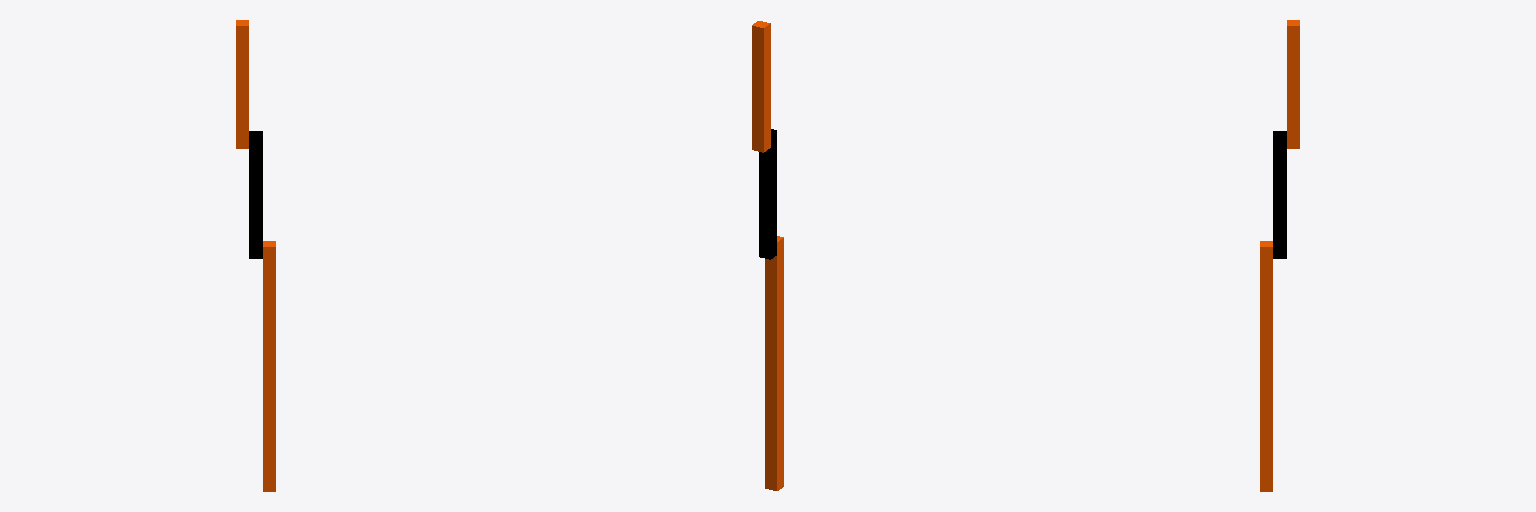
The robot description file, URDF, robot "rrbot":
<?xml version="1.0" ?>

<robot name="rrbot" xmlns:xacro="http://www.ros.org/wiki/xacro">
 
  
  <material name="RRBOT/black">
    <color rgba="0.0 0.0 0.0 1.0"/>
  </material>
  <material name="RRBOT/orange">
    <color rgba="1.0 0.423529411765 0.0392156862745 1.0"/>
  </material>
  <material name="RRBOT/red">
    <color rgba="0.8 0.0 0.0 1.0"/>
  </material>

  
  <!-- Build your comprehensive robot -->
  <link name="world"/>

  <joint name="single_rrbot_fixed" type="fixed">
    <origin rpy="0 0 0" xyz="0 0 0"/>
    <parent link="world"/>
    <child link="single_rrbot_link1"/>
  </joint>
  
  
  <link name="single_rrbot_link1">
    <collision>
      <origin rpy="0 0 0" xyz="0 0 1.0"/>
      <geometry>
        <box size="0.1 0.1 1"/>
      </geometry>
    </collision>
    <visual>
      <origin rpy="0 0 0" xyz="0 0 1.0"/>
      <geometry>
        <box size="0.1 0.1 2"/>
      </geometry>
      <material name="RRBOT/orange"/>
    </visual>
    <inertial>
      <origin rpy="0 0 0" xyz="0 0 1.0"/>
      <mass value="1"/>
      <inertia ixx="1.0" ixy="0.0" ixz="0.0" iyy="1.0" iyz="0.0" izz="1.0"/>
    </inertial>
  </link>
  
  
  <joint name="single_rrbot_joint1" type="continuous">
    <parent link="single_rrbot_link1"/>
    <child link="single_rrbot_link2"/>
    <origin rpy="0 0 0" xyz="0 0.1 1.95"/>
    <axis xyz="0 1 0"/>
    <dynamics damping="0.7"/>
  </joint>  

  <link name="single_rrbot_link2">
    <collision>
      <origin rpy="0 0 0" xyz="0 0 0.45"/>
      <geometry>
        <box size="0.1 0.1 1"/>
      </geometry>
    </collision>
    <visual>
      <origin rpy="0 0 0" xyz="0 0 0.45"/>
      <geometry>
        <box size="0.1 0.1 1"/>
      </geometry>
      <material name="RRBOT/black"/>
    </visual>
    <inertial>
      <origin rpy="0 0 0" xyz="0 0 0.45"/>
      <mass value="1"/>
      <inertia ixx="1.0" ixy="0.0" ixz="0.0" iyy="1.0" iyz="0.0" izz="1.0"/>
    </inertial>
  </link>
  

  <joint name="single_rrbot_joint2" type="continuous">
    <parent link="single_rrbot_link2"/>
    <child link="single_rrbot_link3"/>
    <origin rpy="0 0 0" xyz="0 0.1 0.9"/>
    <axis xyz="0 1 0"/>
    <dynamics damping="0.7"/>
  </joint>

  <link name="single_rrbot_link3">
    <collision>
      <origin rpy="0 0 0" xyz="0 0 0.45"/>
      <geometry>
        <box size="0.1 0.1 1"/>
      </geometry>
    </collision>
    <visual>
      <origin rpy="0 0 0" xyz="0 0 0.45"/>
      <geometry>
        <box size="0.1 0.1 1"/>
      </geometry>
      <material name="RRBOT/orange"/>
    </visual>
    <inertial>
      <origin rpy="0 0 0" xyz="0 0 0.45"/>
      <mass value="1"/>
      <inertia ixx="1.0" ixy="0.0" ixz="0.0" iyy="1.0" iyz="0.0" izz="1.0"/>
    </inertial>
  </link>

</robot>

--- Render facts (derived) ---
The picture shows the robot from 3 angles, left to right: view 1: azimuth 90°, elevation 25°; view 2: azimuth 150°, elevation 25°; view 3: azimuth 270°, elevation 25°; orthographic projection.
Model rrbot with 4 links and 3 joints (2 continuous, 1 fixed), rooted at world, posed all joints at 0.
Visible links, largest first — view 1: single_rrbot_link1, single_rrbot_link2, single_rrbot_link3; view 2: single_rrbot_link1, single_rrbot_link3, single_rrbot_link2; view 3: single_rrbot_link1, single_rrbot_link2, single_rrbot_link3.
Boxes of the visible links, left/top/right/bottom form: single_rrbot_link1: left=263, top=241, right=275, bottom=491; single_rrbot_link2: left=249, top=131, right=262, bottom=258; single_rrbot_link3: left=236, top=20, right=248, bottom=148; single_rrbot_link1: left=765, top=236, right=783, bottom=490; single_rrbot_link3: left=752, top=21, right=770, bottom=152; single_rrbot_link2: left=759, top=129, right=776, bottom=259; single_rrbot_link1: left=1260, top=241, right=1272, bottom=491; single_rrbot_link2: left=1273, top=131, right=1286, bottom=258; single_rrbot_link3: left=1287, top=20, right=1299, bottom=148.
Bounding box of the posed robot: 0.1 × 0.3 × 3.8 m (x, y, z).
Geometry: primitives only (box / cylinder / sphere), no mesh files.
